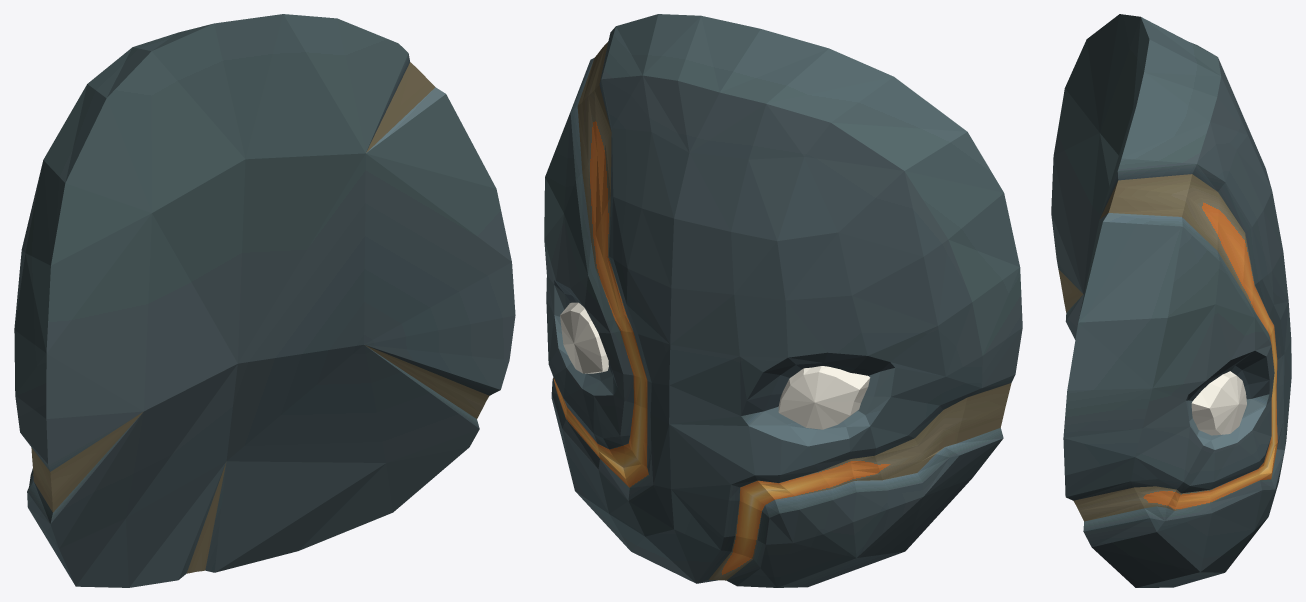
The model's file is CharSkyKid_Mask_AP29RepairedC.glb.
3 renders of one model, left to right at view 1: azimuth 30°, elevation 25°; view 2: azimuth 150°, elevation 25°; view 3: azimuth 270°, elevation 25°, orthographic. The views are drawn at different scales.
Parts seen in each view (by area): view 1: CharSkyKid_Mask_AP29RepairedC; view 2: CharSkyKid_Mask_AP29RepairedC; view 3: CharSkyKid_Mask_AP29RepairedC.
Part boxes in pixels (x1,y1,x2,y2): CharSkyKid_Mask_AP29RepairedC: (14,14,515,587); CharSkyKid_Mask_AP29RepairedC: (544,14,1022,587); CharSkyKid_Mask_AP29RepairedC: (1051,14,1291,587).
Bounding box in the file's own units: 2.16 × 2.48 × 1.05.
1 material, 1 textured.
